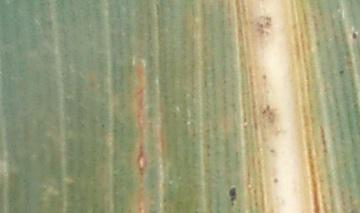tarspot: (227, 186, 238, 206), (260, 72, 268, 83), (350, 30, 358, 40), (267, 147, 276, 155), (271, 176, 278, 185), (260, 109, 267, 117), (338, 69, 345, 75), (99, 122, 105, 129)
